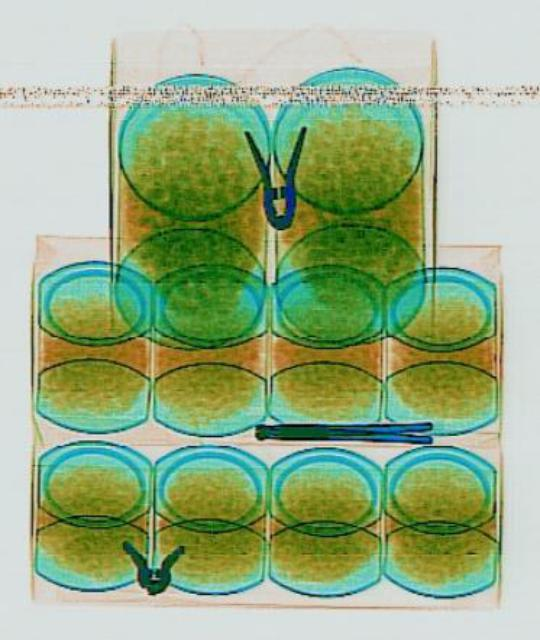Pliers: (241, 123, 307, 230), (253, 419, 429, 441)
